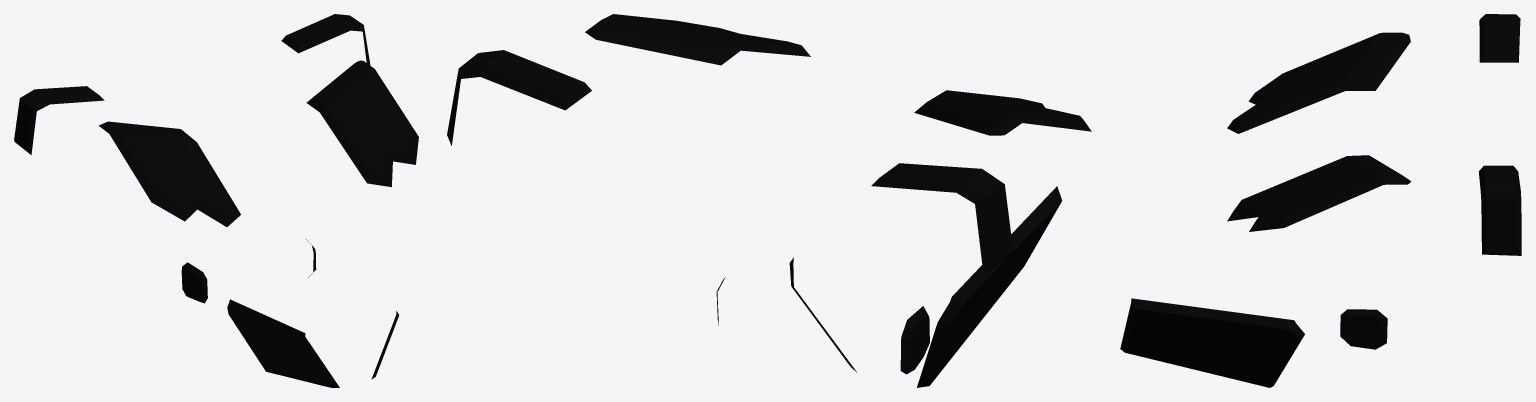
File: p1_cf_assa_01_t1.glb
3 views of the same model, side by side, from view 1: azimuth 30°, elevation 25°; view 2: azimuth 150°, elevation 25°; view 3: azimuth 270°, elevation 25° (orthographic). The views are drawn at different scales.
Parts seen in each view (by area): view 1: p1_assault_frigate_01_t1_LOD0; view 2: p1_assault_frigate_01_t1_LOD0; view 3: p1_assault_frigate_01_t1_LOD0.
Boxes of the visible parts, left/top/right/bottom form: p1_assault_frigate_01_t1_LOD0: left=14, top=14, right=418, bottom=387; p1_assault_frigate_01_t1_LOD0: left=447, top=14, right=1091, bottom=387; p1_assault_frigate_01_t1_LOD0: left=1120, top=14, right=1521, bottom=387.
Size of what is drawn, in the model's own units: 1.25 by 0.8263 by 1.09.
1 material, 1 textured.
